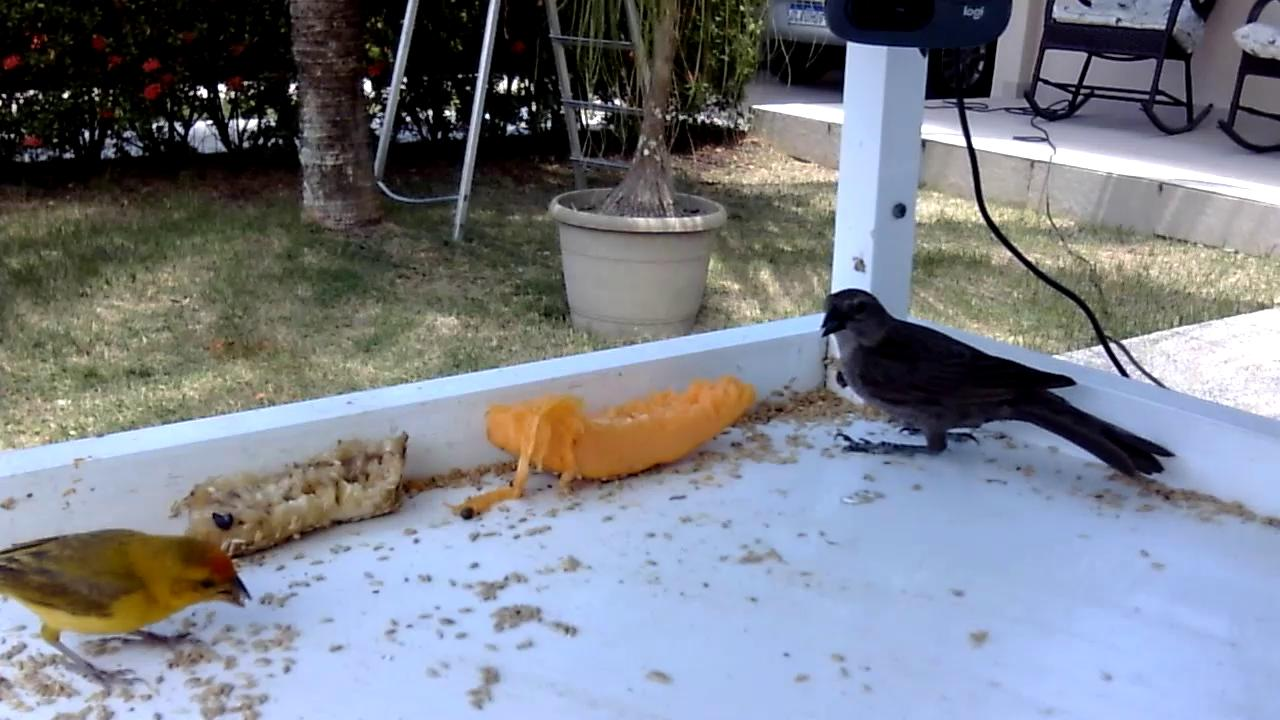canario_do_amazonas: (1, 524, 257, 702)
chupim: (817, 287, 1178, 485)
